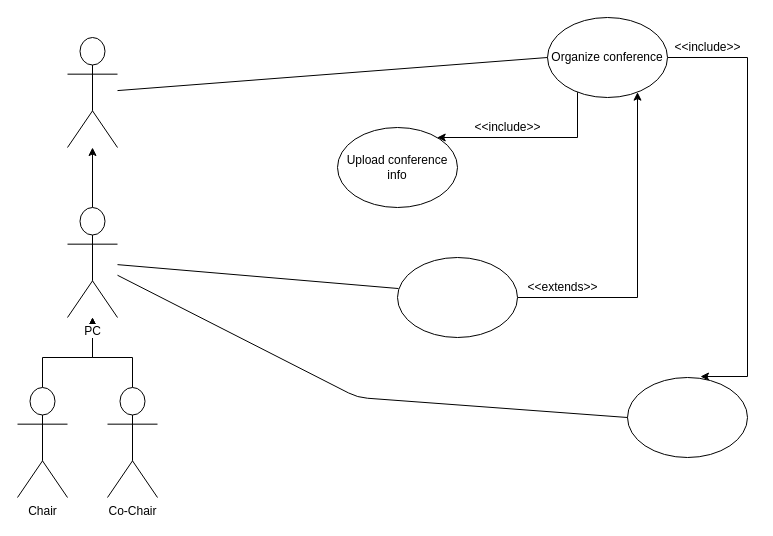
The diagram is 773 pixels wide and 536 high, and some of its shapes have lost their labels. Each missing label, with the centre of its shape:
"Change deadline" belongs at (457,297).
"Steering Committee" belongs at (92,92).
"Upload PC information" belongs at (687,417).
